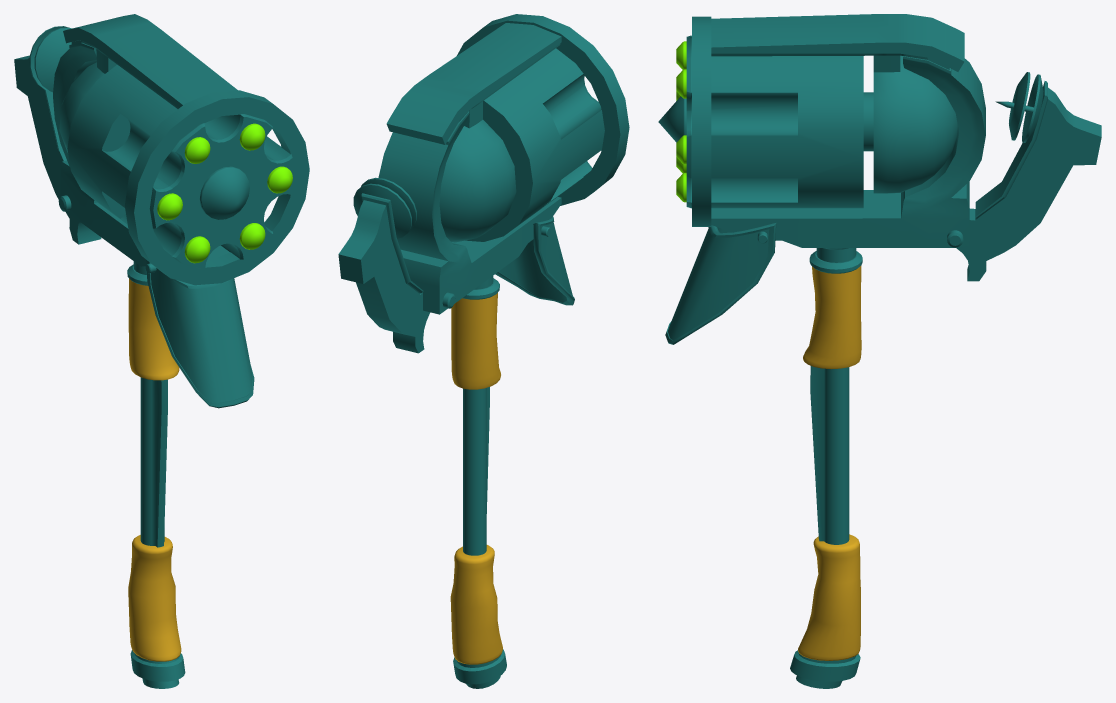
Rendered from Texture_Hammer.obj.
The picture shows the model from 3 angles, left to right: view 1: azimuth 30°, elevation 25°; view 2: azimuth 150°, elevation 25°; view 3: azimuth 270°, elevation 25°; orthographic projection. The views are drawn at different scales.
Visible parts, largest first — view 1: HammerV2 hammerChamber, hammerHandle HammerV2, HammerV2 hammerIgnition, HammerV2 hammerShield, HammerV2 hammerHammer; view 2: HammerV2 hammerIgnition, HammerV2 hammerChamber, hammerHandle HammerV2, HammerV2 hammerHammer, HammerV2 hammerShield; view 3: HammerV2 hammerIgnition, HammerV2 hammerChamber, hammerHandle HammerV2, HammerV2 hammerHammer, HammerV2 hammerShield.
Boxes of the visible parts, left/top/right/bottom form: HammerV2 hammerChamber: left=67, top=64, right=309, bottom=285; hammerHandle HammerV2: left=127, top=261, right=185, bottom=688; HammerV2 hammerIgnition: left=53, top=14, right=237, bottom=266; HammerV2 hammerShield: left=145, top=260, right=254, bottom=408; HammerV2 hammerHammer: left=14, top=26, right=101, bottom=244; HammerV2 hammerIgnition: left=378, top=23, right=561, bottom=314; HammerV2 hammerChamber: left=457, top=14, right=629, bottom=241; hammerHandle HammerV2: left=450, top=276, right=506, bottom=688; HammerV2 hammerHammer: left=338, top=177, right=455, bottom=353; HammerV2 hammerShield: left=495, top=216, right=574, bottom=305; HammerV2 hammerIgnition: left=711, top=14, right=985, bottom=247; HammerV2 hammerChamber: left=658, top=16, right=873, bottom=226; hammerHandle HammerV2: left=790, top=248, right=862, bottom=688; HammerV2 hammerHammer: left=947, top=72, right=1101, bottom=281; HammerV2 hammerShield: left=665, top=223, right=776, bottom=344.
Bounding box in the file's own units: 5.42 × 18.57 × 11.34.
